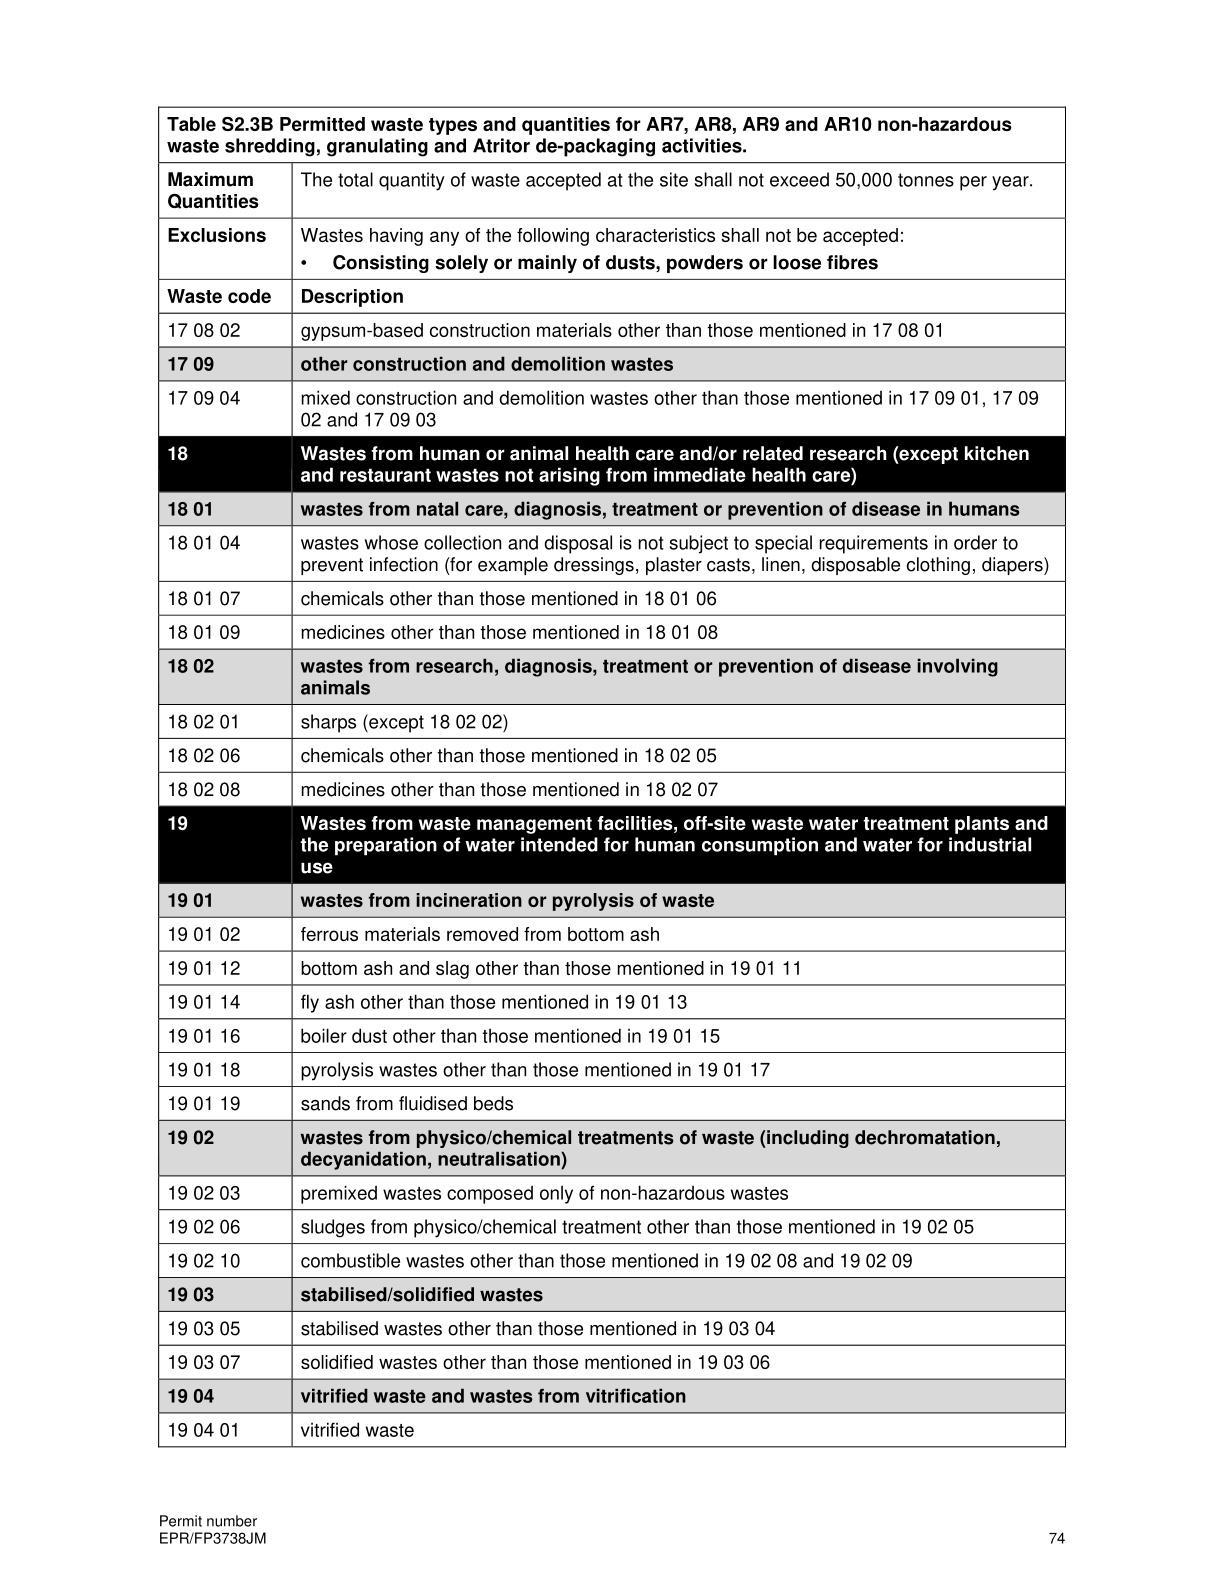merged_cells: (154, 104, 1070, 1452)
